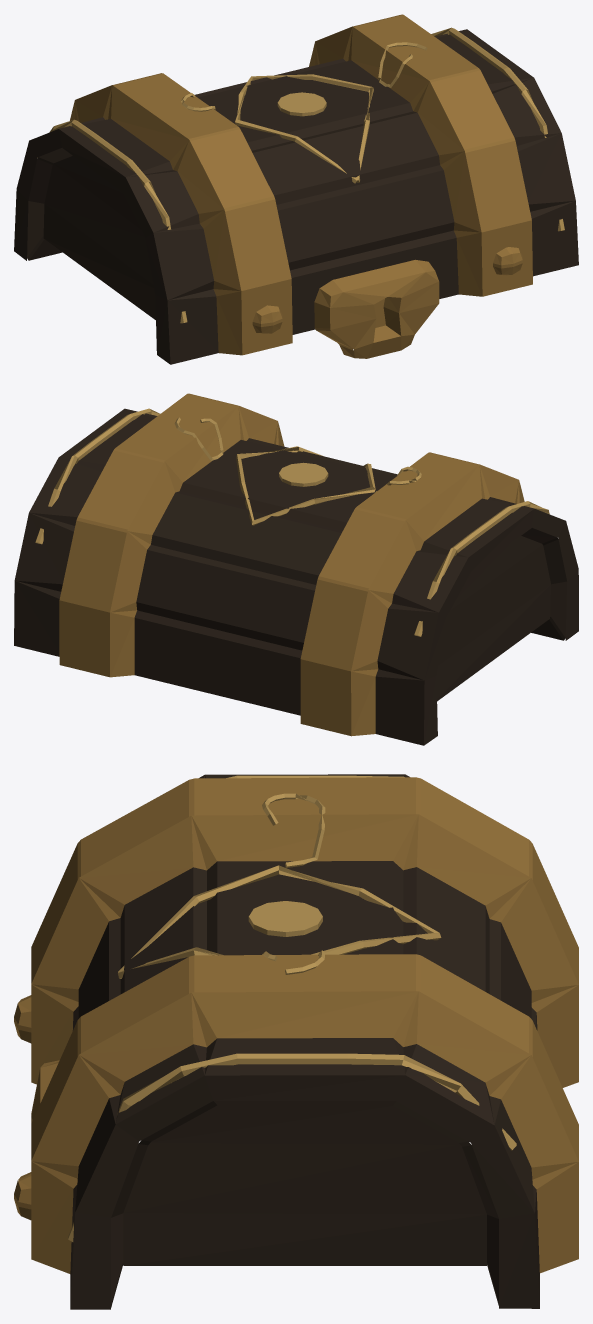
The model's file is gold-lid.glb.
3 renders of one model, top to bottom at view 1: azimuth 30°, elevation 25°; view 2: azimuth 150°, elevation 25°; view 3: azimuth 270°, elevation 25°, orthographic. The views are drawn at different scales.
Visible parts, largest first — view 1: Wood, Gold; view 2: Wood, Gold; view 3: Gold, Wood.
Boxes of the visible parts, x1,y1,x2,y2 form: Wood: (14, 29, 578, 364); Gold: (37, 14, 564, 358); Wood: (14, 408, 578, 745); Gold: (35, 393, 549, 736); Gold: (14, 775, 578, 1273); Wood: (70, 774, 539, 1309).
Size of the model in its own units: 1.04 by 0.5413 by 0.8231.
